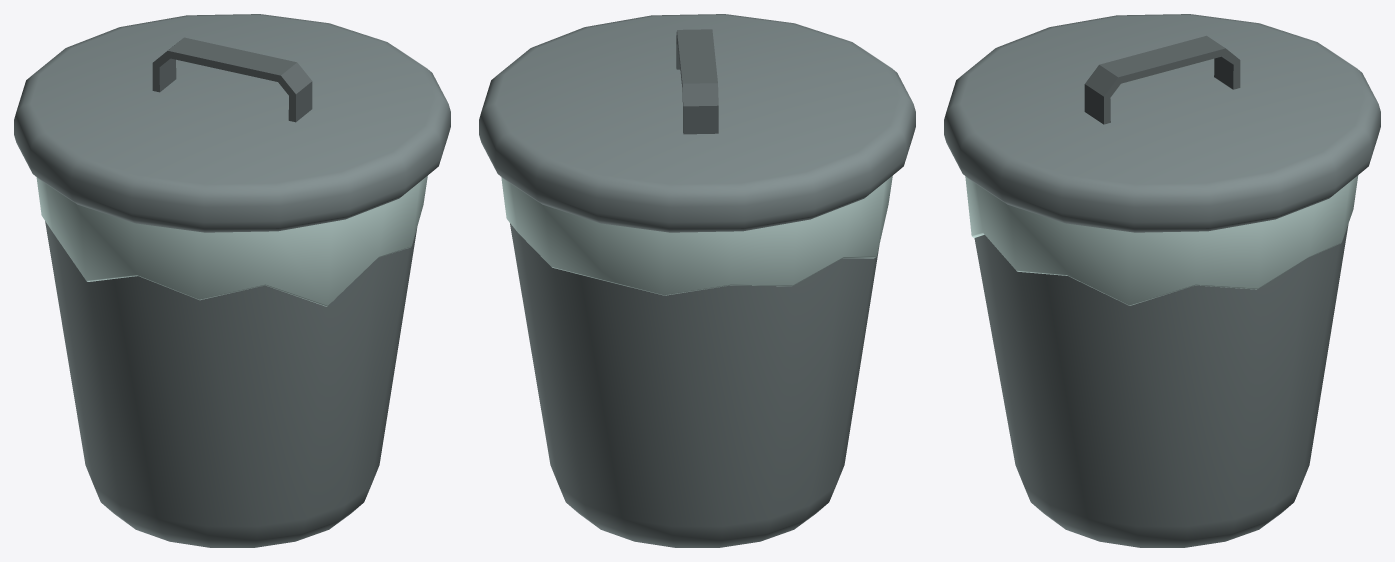
The model's file is Trash.fbx.
3 views of the same model, side by side, from view 1: azimuth 30°, elevation 25°; view 2: azimuth 150°, elevation 25°; view 3: azimuth 270°, elevation 25° (orthographic).
Visible parts, largest first — view 1: Trash, Thresh-Cover; view 2: Trash, Thresh-Cover; view 3: Trash, Thresh-Cover.
Part boxes in pixels (x1,y1,x2,y2): Trash: (36, 175, 427, 547); Thresh-Cover: (14, 14, 450, 232); Trash: (501, 175, 892, 547); Thresh-Cover: (479, 14, 915, 232); Trash: (965, 175, 1358, 547); Thresh-Cover: (944, 14, 1380, 232).
Bounding box in the file's own units: 0.5746 × 0.6494 × 0.579.
